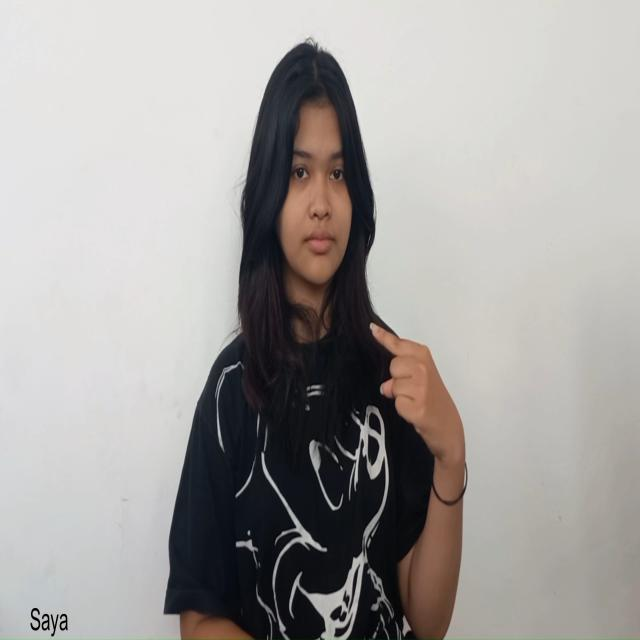Saya -BISINDO-: (367, 313, 469, 499)
